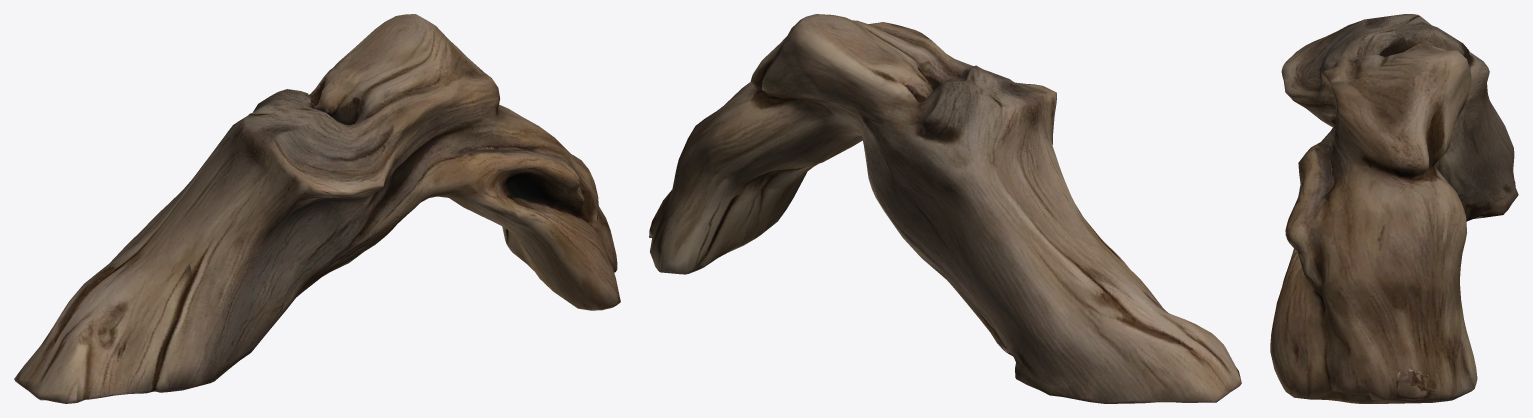
The model's file is driftwood_arch.glb.
3 views of the same model, side by side, from view 1: azimuth 30°, elevation 25°; view 2: azimuth 150°, elevation 25°; view 3: azimuth 270°, elevation 25° (orthographic). The views are drawn at different scales.
Parts seen in each view (by area): view 1: driftwood_arch_00; view 2: driftwood_arch_00; view 3: driftwood_arch_00.
Part boxes in pixels (x1,y1,x2,y2): driftwood_arch_00: [14, 14, 620, 403]; driftwood_arch_00: [649, 14, 1241, 403]; driftwood_arch_00: [1270, 14, 1518, 403].
Bounding box in the file's own units: 1.99 × 0.9264 × 0.7419.
1 material, 1 textured.
